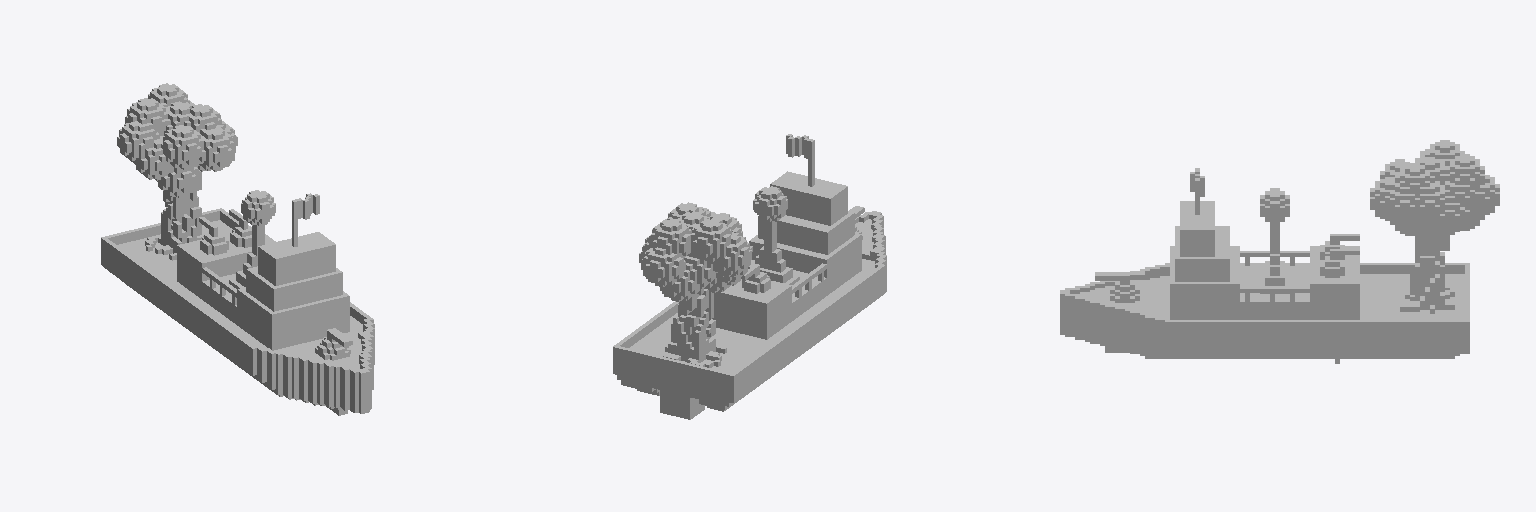
Rendered from ship-2.obj.
3 renders of one model, left to right at view 1: azimuth 30°, elevation 25°; view 2: azimuth 150°, elevation 25°; view 3: azimuth 270°, elevation 25°, orthographic.
Visible parts, largest first — view 1: object 1; view 2: object 1; view 3: object 1.
Part boxes in pixels (x1,y1,x2,y2): object 1: (101, 83, 374, 415); object 1: (613, 134, 886, 419); object 1: (1060, 140, 1499, 363).
Bounding box in the file's own units: 2.8 × 4.4 × 8.8.